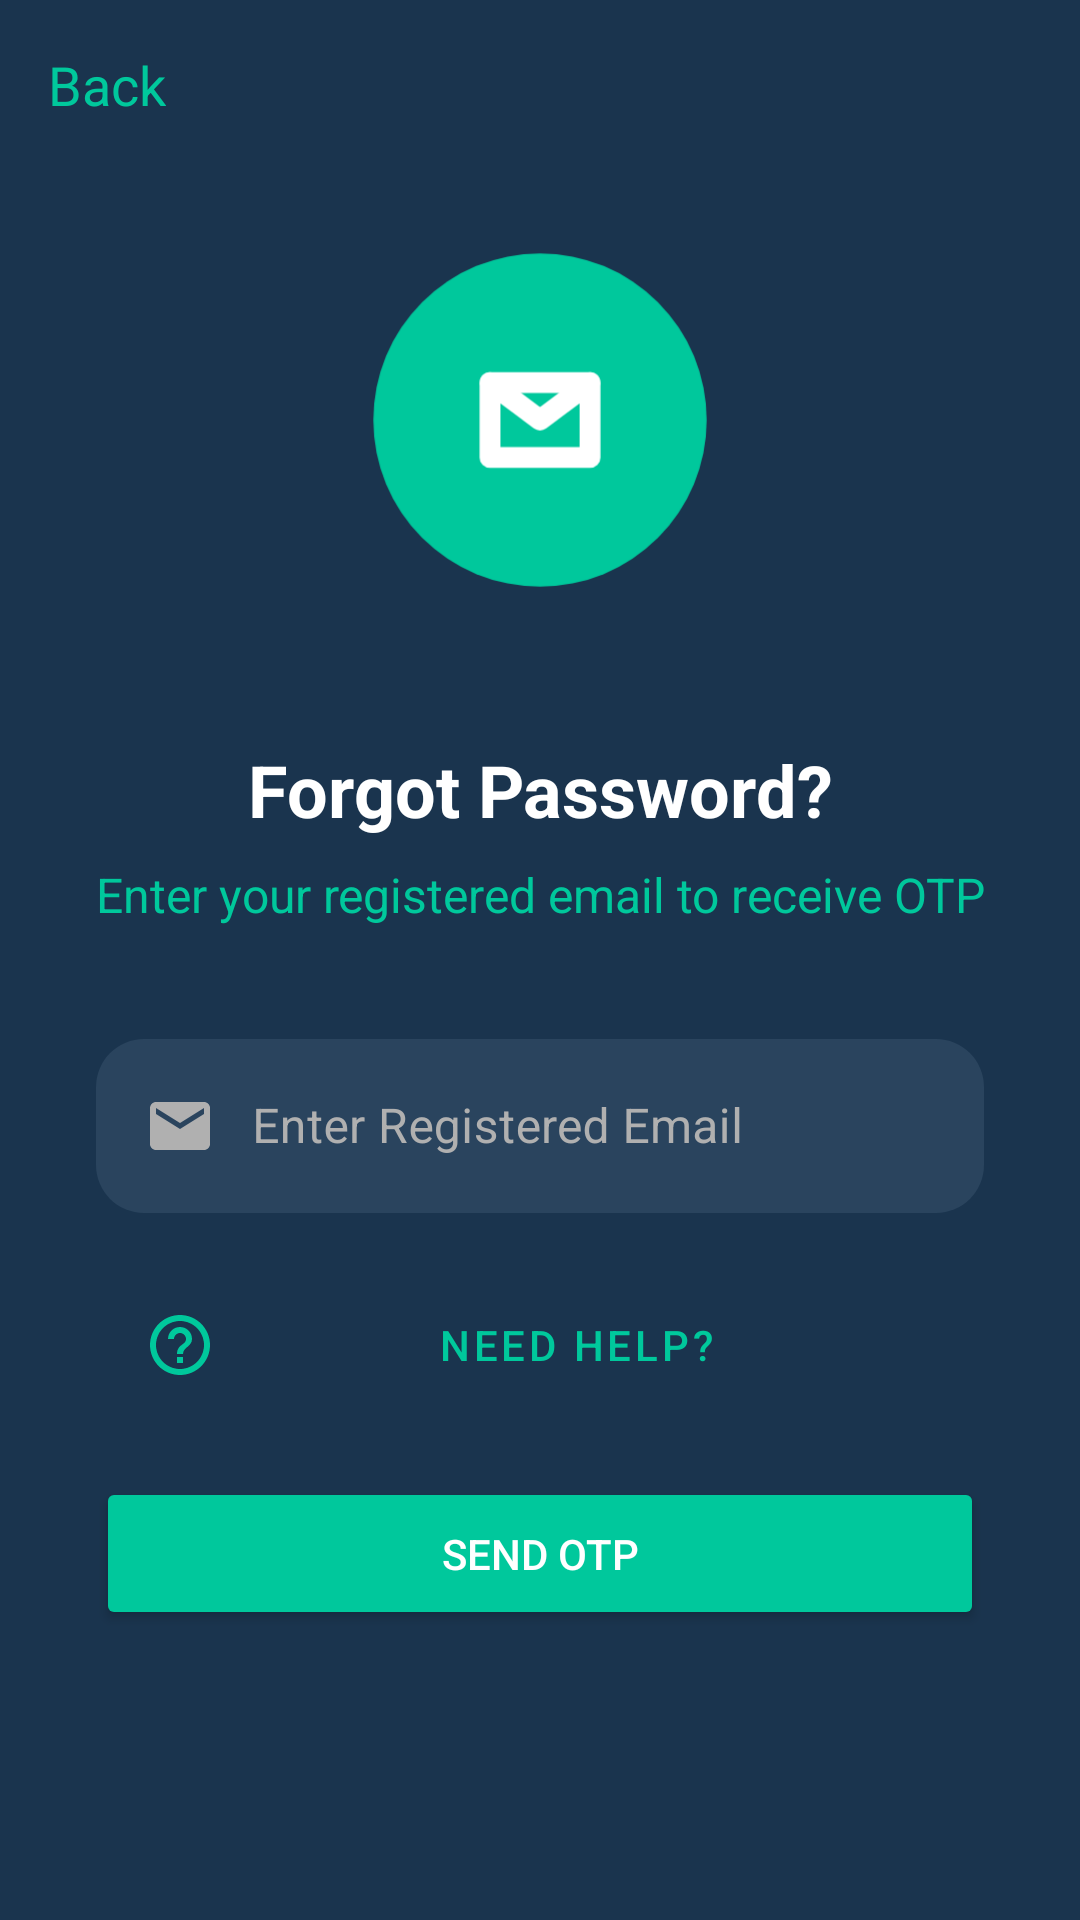

Screen size 1080×1920. Icon name, then its box in pixels as (x1, y1, x2, y2):
email: (373, 253, 707, 587)
